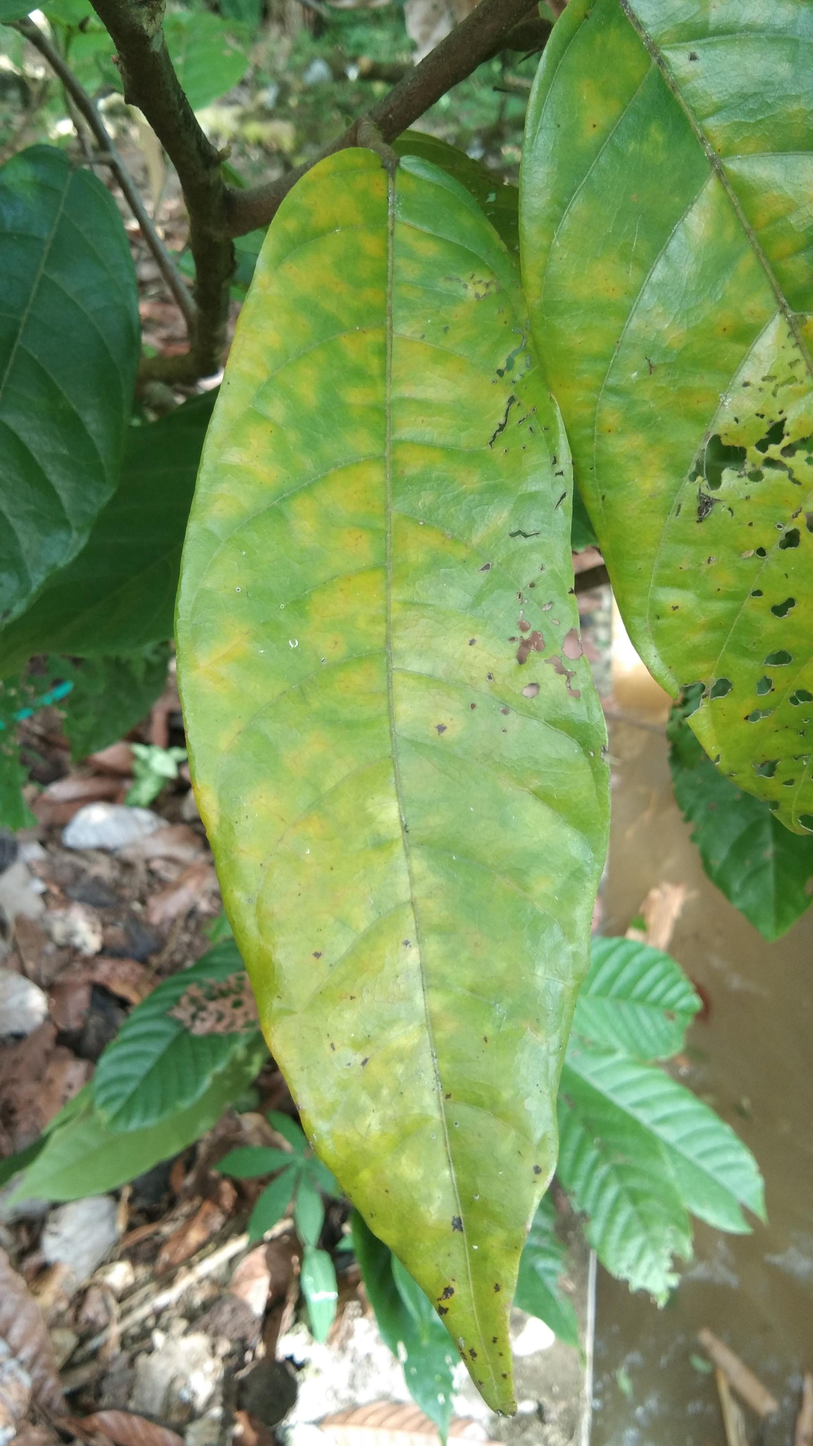deficiencia_potasio: (183, 140, 612, 1418)
